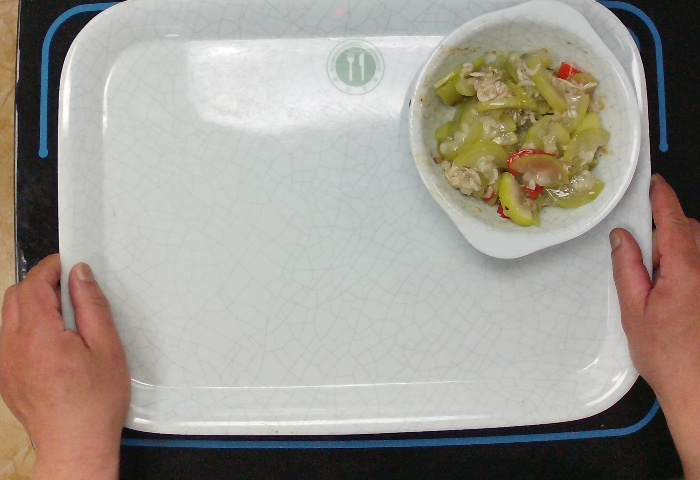JYsf-Shuang_Er_Wan: (405, 1, 643, 261)
